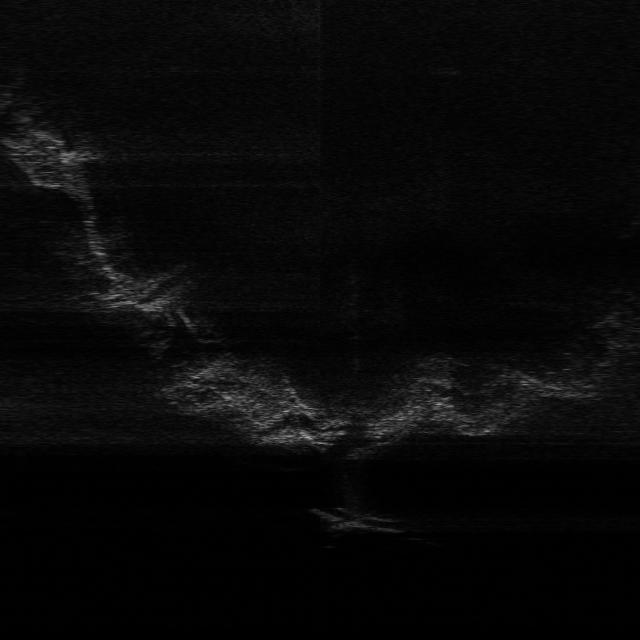plane: (306, 504, 408, 536)
